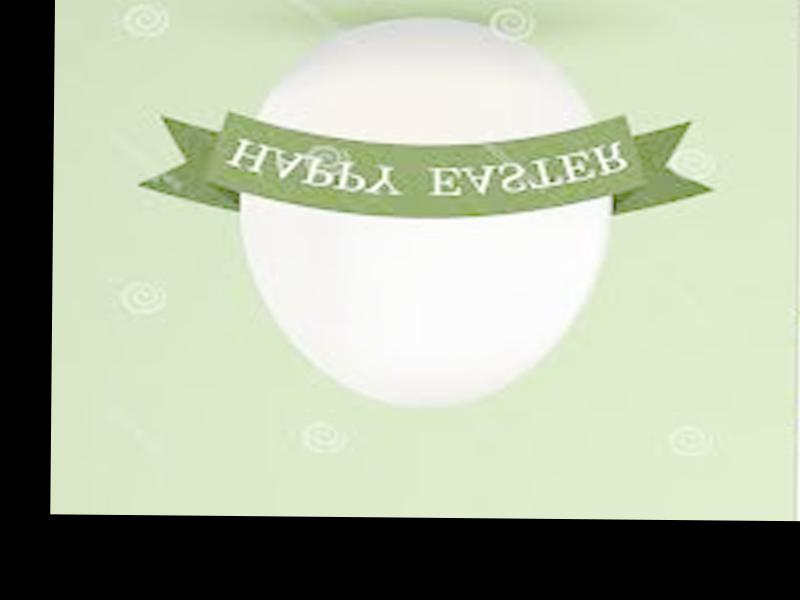Eggs: (242, 17, 614, 408)
